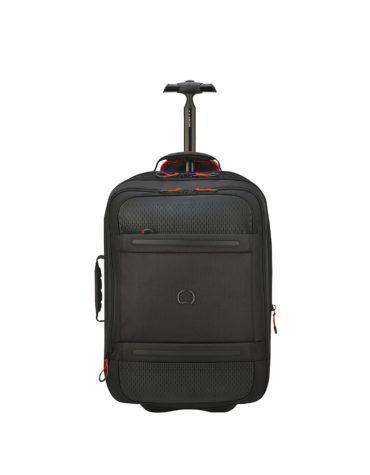suitcase: (92, 149, 275, 411)
